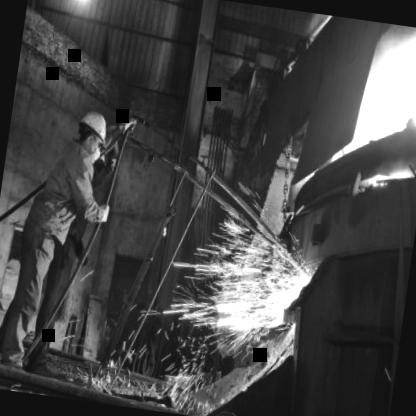helmet: (68, 102, 112, 174)
